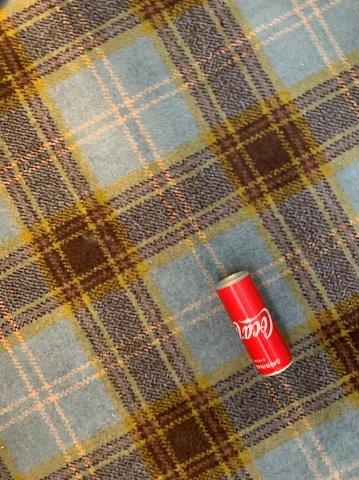kaleng: (217, 272, 293, 377)
